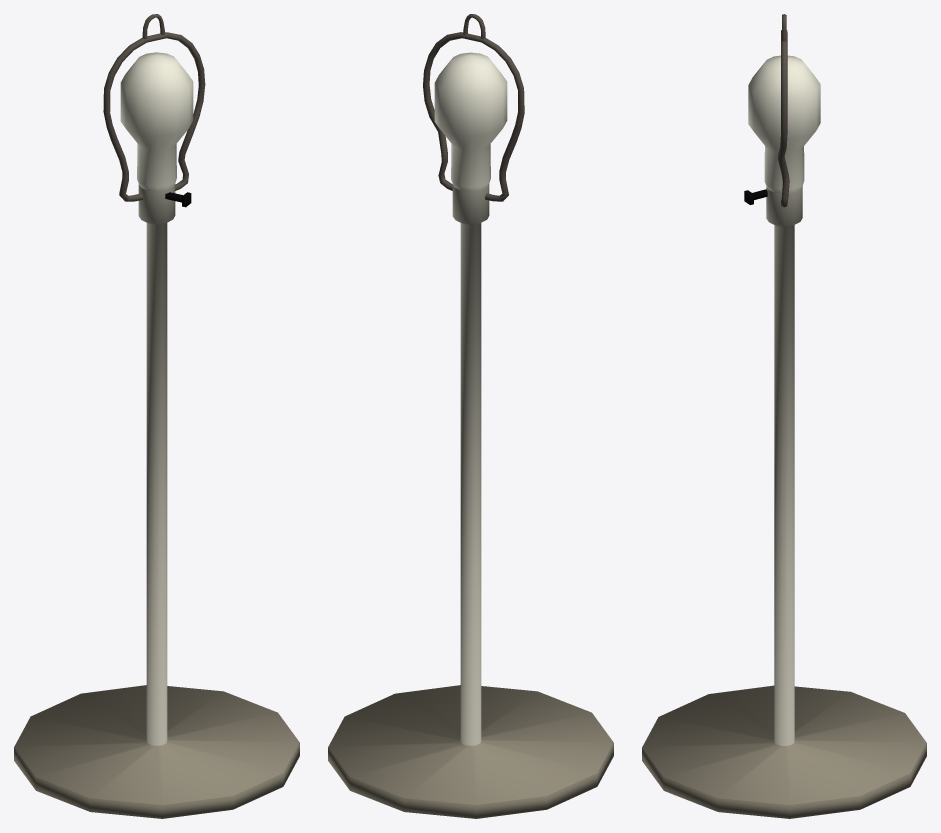
Rendered from furnishings-lightsources-bulblamp_v2.glb.
The picture shows the model from 3 angles, left to right: view 1: azimuth 30°, elevation 25°; view 2: azimuth 150°, elevation 25°; view 3: azimuth 270°, elevation 25°; orthographic projection.
Parts seen in each view (by area): view 1: BulbLamp_v2_base, BulbLamp_v2_light; view 2: BulbLamp_v2_base, BulbLamp_v2_light; view 3: BulbLamp_v2_base, BulbLamp_v2_light.
Part boxes in pixels (x1,y1,x2,y2): BulbLamp_v2_base: [14, 14, 299, 818]; BulbLamp_v2_light: [120, 52, 193, 191]; BulbLamp_v2_base: [328, 14, 613, 818]; BulbLamp_v2_light: [434, 52, 507, 191]; BulbLamp_v2_base: [642, 14, 926, 818]; BulbLamp_v2_light: [748, 55, 820, 193].
Bounding box in the file's own units: 0.3245 × 0.9337 × 0.3245.
